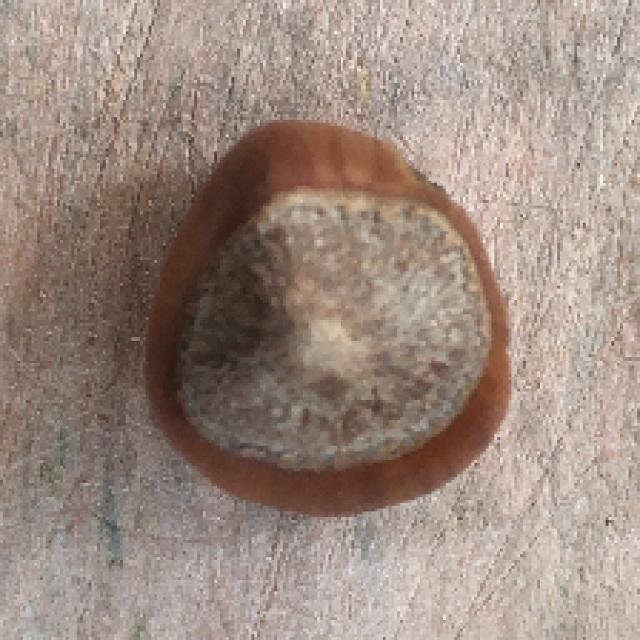DamagedHazelnut: (145, 126, 519, 521)
